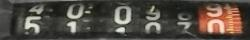digits: (24, 15, 42, 36), (114, 5, 132, 25), (66, 2, 85, 20), (145, 5, 161, 22), (206, 3, 224, 18), (176, 9, 194, 21)
